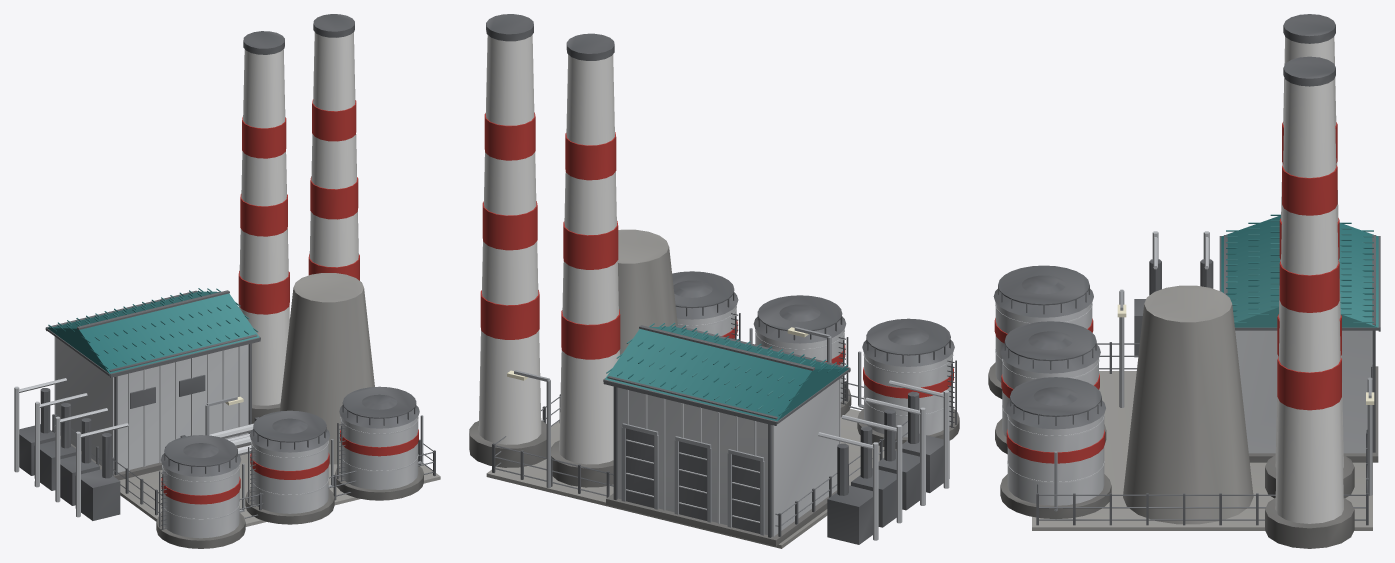
Rendered from Power_P3.fbx.
3 views of the same model, side by side, from view 1: azimuth 30°, elevation 25°; view 2: azimuth 150°, elevation 25°; view 3: azimuth 270°, elevation 25° (orthographic). The views are drawn at different scales.
Parts seen in each view (by area): view 1: Power.Hall, Power.Stack0, Power.Stack1, Power.CoolingTowers, Power.Tank2, Power.Tank0, Power.Tank1, Power.Switchyard, Power.Yard, Power.Fence, Power.Pipes; view 2: Power.Hall, Power.Stack1, Power.Stack0, Power.Switchyard, Power.Tank0, Power.CoolingTowers, Power.Tank1, Power.Yard, Power.Tank2, Power.Fence, Power.Lamp1; view 3: Power.Stack1, Power.CoolingTowers, Power.Hall, Power.Tank2, Power.Yard, Power.Tank0, Power.Tank1, Power.Stack0, Power.Fence, Power.Switchyard, Power.Lamp0, Power.Lamp1.
Part boxes in pixels (box(x1,y1,x2,y2)): Power.Hall: box(45, 288, 260, 480); Power.Stack0: box(238, 31, 289, 423); Power.Stack1: box(308, 14, 359, 280); Power.CoolingTowers: box(280, 273, 374, 464); Power.Tank2: box(335, 386, 423, 500); Power.Tank0: box(156, 435, 245, 548); Power.Tank1: box(245, 410, 334, 524); Power.Switchyard: box(14, 378, 128, 520); Power.Yard: box(119, 453, 440, 526); Power.Fence: box(52, 414, 435, 518); Power.Pipes: box(180, 417, 259, 455); Power.Hall: box(603, 322, 850, 546); Power.Stack1: box(469, 14, 546, 467); Power.Stack0: box(551, 33, 620, 487); Power.Switchyard: box(818, 380, 949, 544); Power.Tank0: box(857, 318, 959, 448); Power.CoolingTowers: box(617, 229, 677, 354); Power.Tank1: box(749, 295, 851, 417); Power.Yard: box(486, 408, 896, 548); Power.Tank2: box(672, 271, 740, 340); Power.Fence: box(492, 381, 907, 536); Power.Lamp1: box(507, 370, 550, 487); Power.Stack1: box(1265, 56, 1354, 548); Power.CoolingTowers: box(1123, 285, 1253, 524); Power.Hall: box(1219, 214, 1380, 462); Power.Tank2: box(1000, 377, 1111, 518); Power.Yard: box(1032, 371, 1372, 530); Power.Tank0: box(988, 265, 1099, 398); Power.Tank1: box(995, 321, 1106, 454); Power.Stack0: box(1265, 14, 1354, 498); Power.Fence: box(1036, 342, 1368, 525); Power.Switchyard: box(1134, 231, 1213, 357); Power.Lamp0: box(1117, 289, 1126, 407); Power.Lamp1: box(1366, 377, 1374, 495).
Size of the model in its own units: 3553 by 3621 by 2761.
